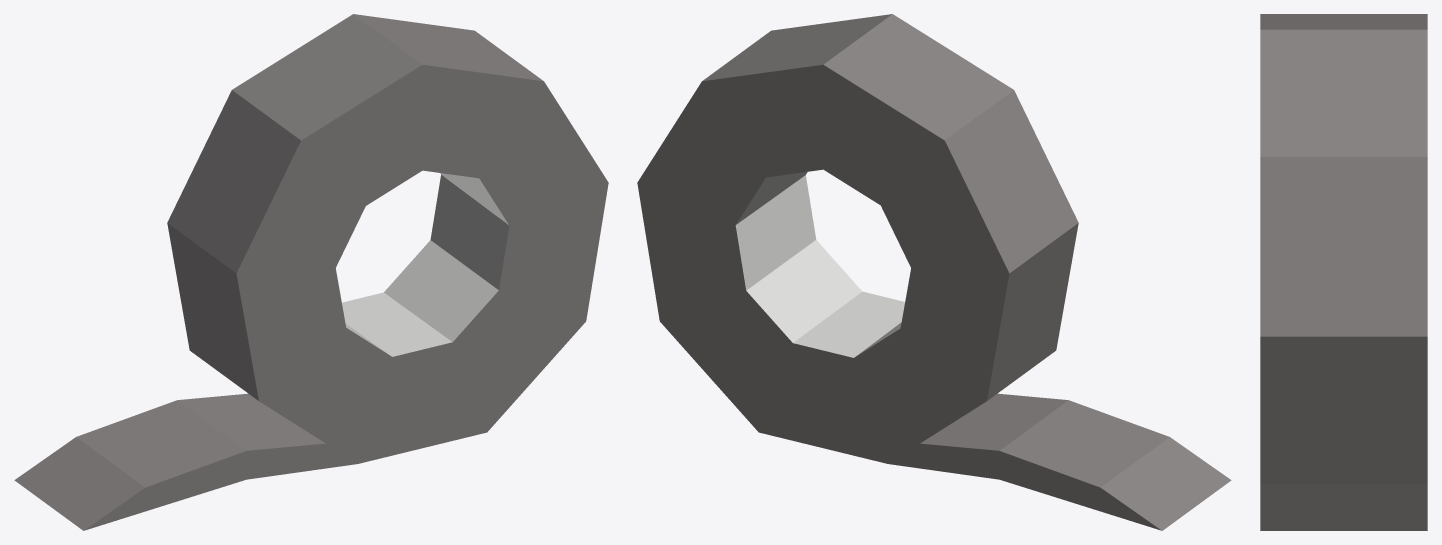
The model's file is duct-tape.glb.
3 renders of one model, left to right at view 1: azimuth 30°, elevation 25°; view 2: azimuth 150°, elevation 25°; view 3: azimuth 270°, elevation 25°, orthographic. The views are drawn at different scales.
Parts seen in each view (by area): view 1: duct-tape; view 2: duct-tape; view 3: duct-tape.
Part boxes in pixels (x1=…): duct-tape: x1=14, y1=14, x2=608, y2=530; duct-tape: x1=637, y1=14, x2=1231, y2=530; duct-tape: x1=1260, y1=14, x2=1427, y2=530.
Size of the model in its own units: 0.2101 by 0.1466 by 0.048.
1 material, 1 textured.
